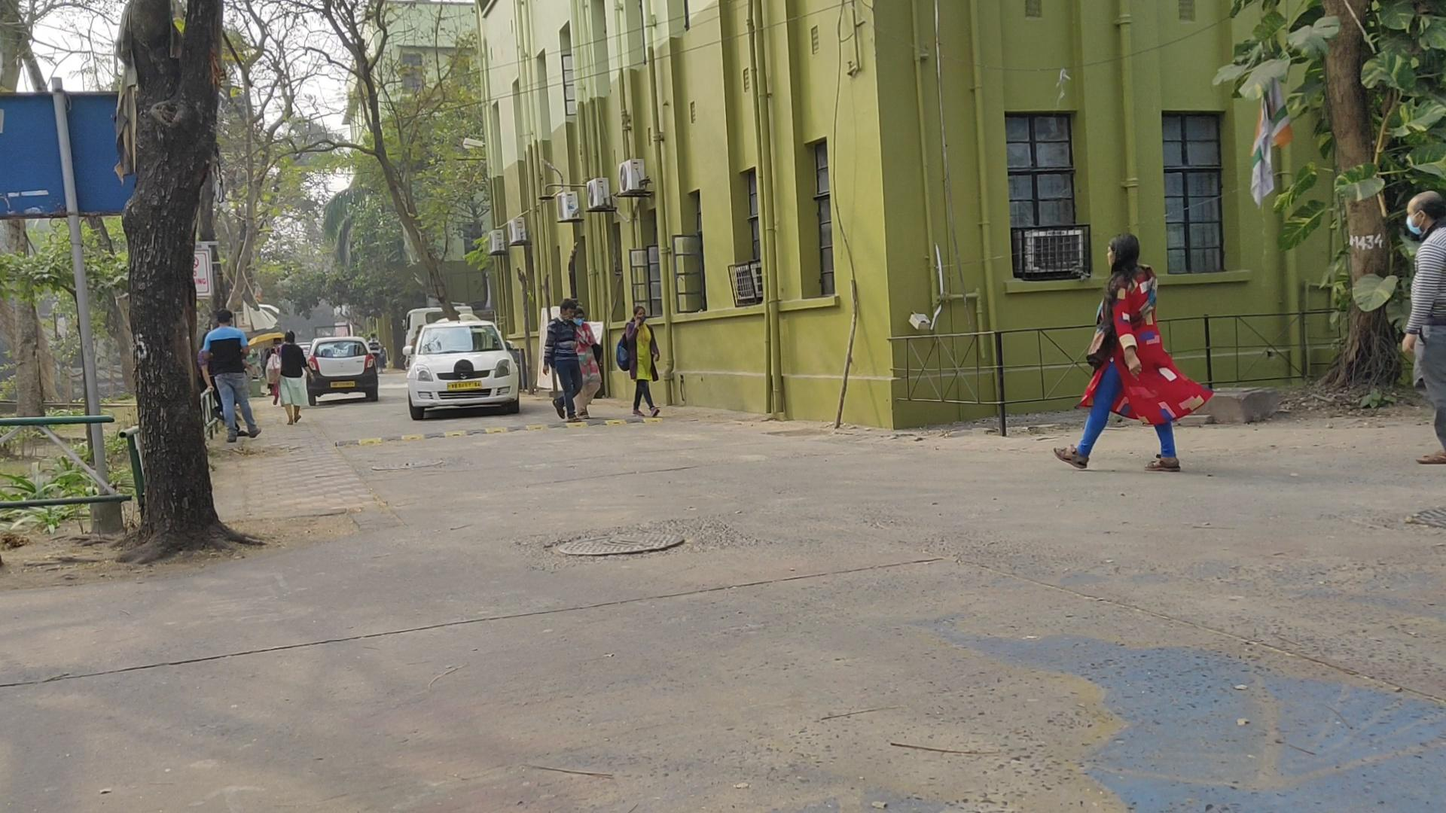car: (406, 321, 520, 420), (305, 336, 381, 407)
